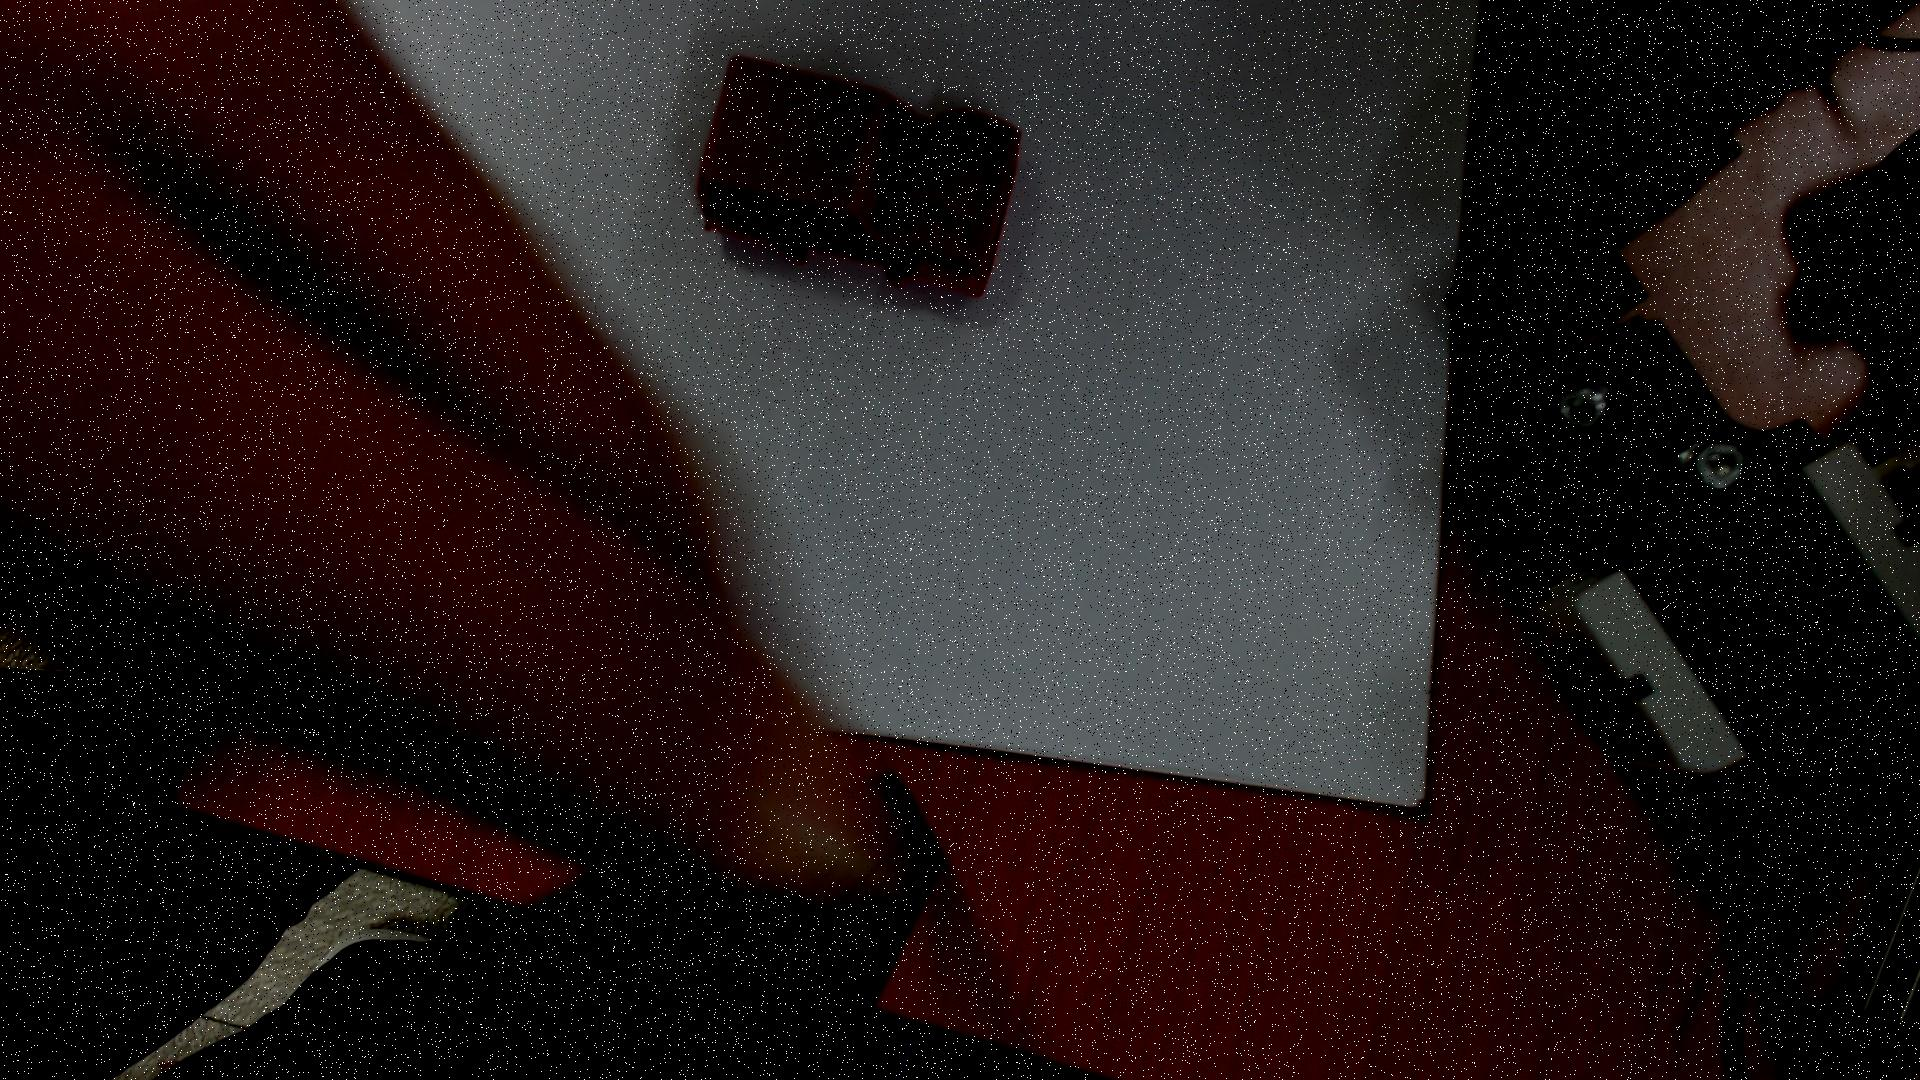Upper_ok: (698, 57, 1021, 295)
